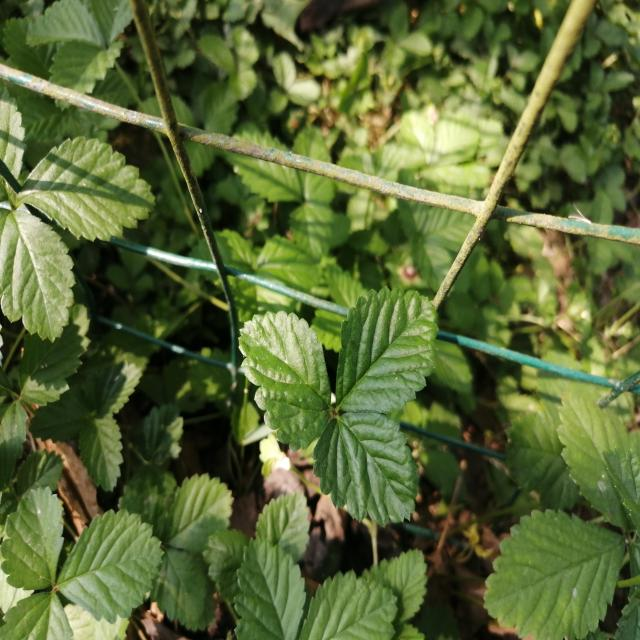Mock_strawberry: (0, 103, 145, 299)
